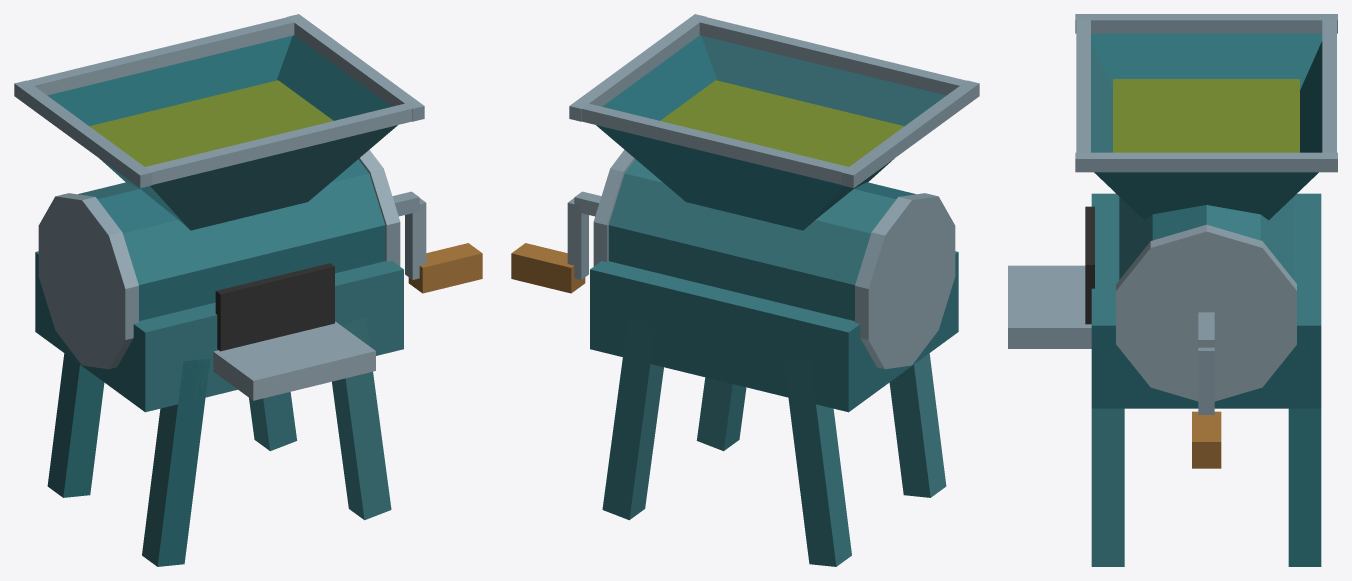
File: N03_Manual.fbx
3 views of the same model, side by side, from view 1: azimuth 30°, elevation 25°; view 2: azimuth 150°, elevation 25°; view 3: azimuth 270°, elevation 25° (orthographic). The views are drawn at different scales.
Visible parts, largest first — view 1: N03_Manual.002; view 2: N03_Manual.002; view 3: N03_Manual.002.
Part boxes in pixels (left/top/right/bottom): N03_Manual.002: left=14, top=14, right=482, bottom=566; N03_Manual.002: left=511, top=14, right=979, bottom=566; N03_Manual.002: left=1008, top=14, right=1337, bottom=566.
Bounding box in the file's own units: 1.46 × 1.43 × 1.01.
